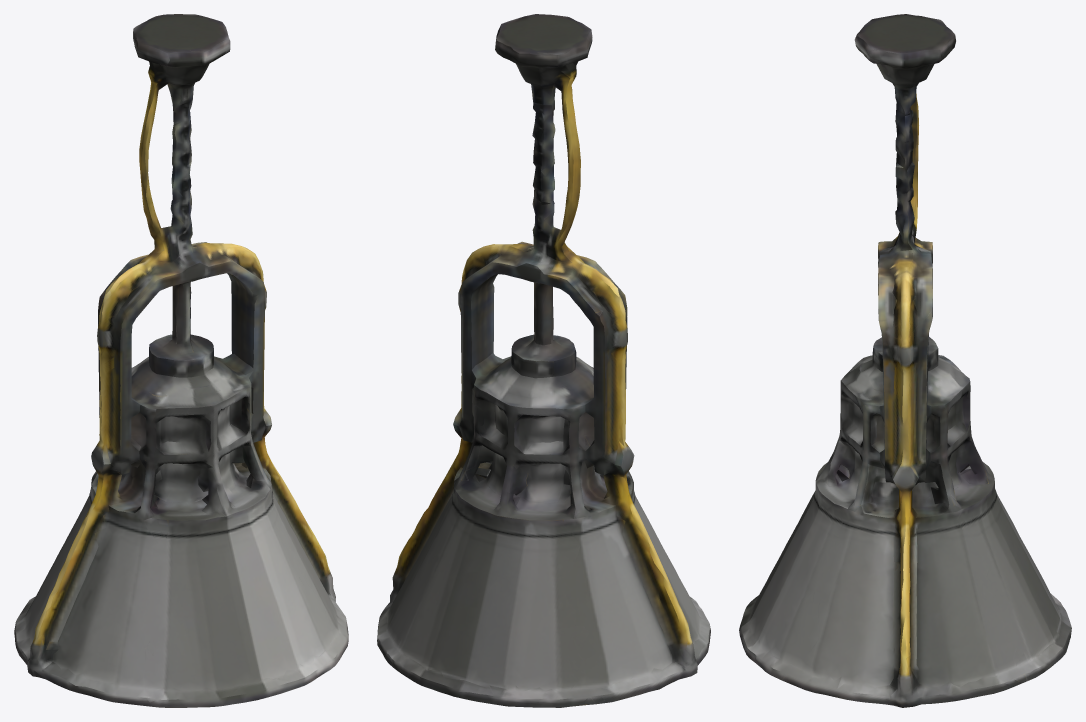
Rendered from lamp.glb.
3 views of the same model, side by side, from view 1: azimuth 30°, elevation 25°; view 2: azimuth 150°, elevation 25°; view 3: azimuth 270°, elevation 25° (orthographic).
Parts seen in each view (by area): view 1: PendantLamp; view 2: PendantLamp; view 3: PendantLamp.
Boxes of the visible parts, bbox=[...] form: PendantLamp: bbox=[14, 14, 348, 707]; PendantLamp: bbox=[377, 14, 710, 707]; PendantLamp: bbox=[739, 14, 1071, 707].
Bounding box in the file's own units: 0.3659 × 0.7 × 0.3504.
1 material, 1 textured.
